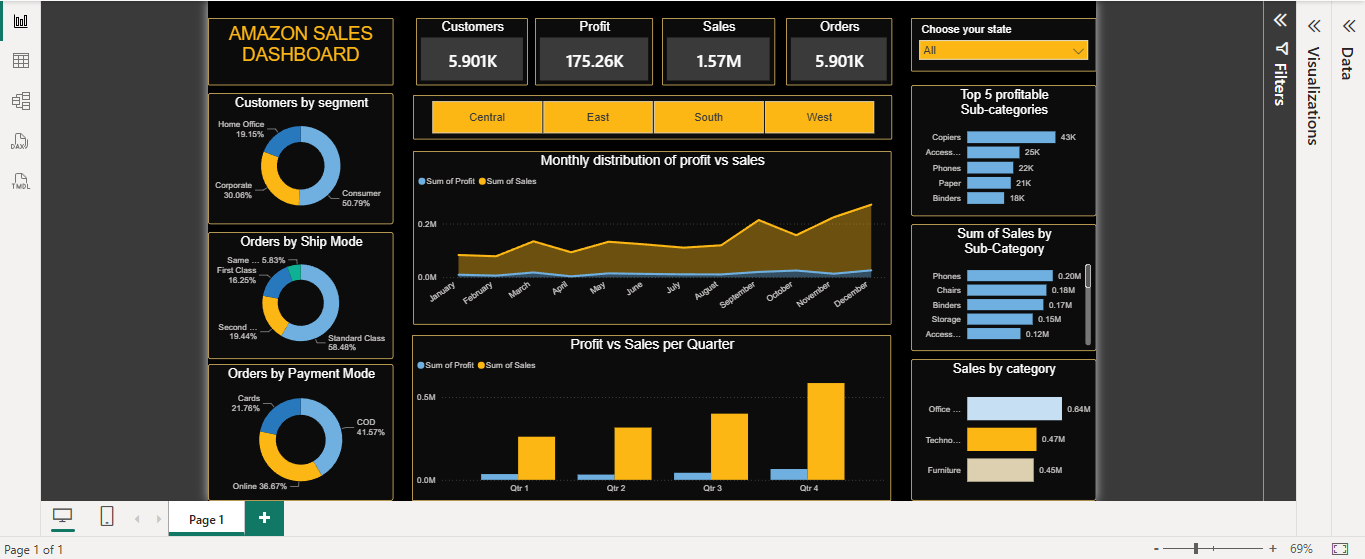

Layout of this report page (visuals, bound fields, positions):
{"tool":"powerbi","page":{"name":"Page 1","canvas":[1280,720],"ordinal":0},"visuals":[{"type":"barChart","title":"Sales by category","fields":{"Category":["Sheet1.Category"],"Y":["Sum(Sheet1.Sales)"]},"box":[1012.9,515.7,267.1,204.3],"z":0},{"type":"barChart","fields":{"Category":["Sheet1.Sub-Category"],"Y":["Sum(Sheet1.Sales)"]},"box":[1012.9,321.4,267.1,182.9],"z":1000},{"type":"barChart","title":"Top 5 profitable Sub-categories","fields":{"Category":["Sheet1.Sub-Category"],"Y":["Sum(Sheet1.Profit)"]},"box":[1012.9,121.4,267.1,188.6],"z":2000},{"type":"donutChart","title":"Orders by Payment Mode","fields":{"Category":["Sheet1.Payment Mode"],"Y":["CountNonNull(Sheet1.Order ID)"]},"box":[0,522.9,267.1,197.1],"z":3000},{"type":"donutChart","title":"Orders by Ship Mode","fields":{"Category":["Sheet1.Ship Mode"],"Y":["CountNonNull(Sheet1.Order ID)"]},"box":[0,332.9,267.1,182.9],"z":4000},{"type":"donutChart","title":"Customers by segment","fields":{"Category":["Sheet1.Segment"],"Y":["CountNonNull(Sheet1.Customer ID)"]},"box":[0,132.9,267.1,188.6],"z":5000},{"type":"textbox","box":[0,24.3,267.1,97.1],"z":6000},{"type":"stackedAreaChart","title":"Monthly distribution of profit vs sales","fields":{"Category":["Sheet1.Order Date.Variation.Date Hierarchy.Month"],"Y":["Sum(Sheet1.Profit)","Sum(Sheet1.Sales)"]},"box":[295.7,215.7,688.6,250],"z":7000},{"type":"clusteredColumnChart","title":"Profit vs Sales per Quarter","fields":{"Category":["Sheet1.Order Date.Variation.Date Hierarchy.Quarter"],"Y":["Sum(Sheet1.Profit)","Sum(Sheet1.Sales)"]},"box":[294.3,481.4,690,238.6],"z":8000},{"type":"slicer","fields":{"Values":["Sheet1.Region"]},"box":[295.7,135.7,690,64.3],"z":9000},{"type":"slicer","fields":{"Values":["Sheet1.State"]},"box":[1012.9,24.3,267.1,77.1],"z":10000},{"type":"cardVisual","title":"Orders","fields":{"Data":["CountNonNull(Sheet1.Order ID)"]},"box":[832.9,24.3,152.9,97.1],"z":11000},{"type":"cardVisual","title":"Sales","fields":{"Data":["Sum(Sheet1.Sales)"]},"box":[654.3,24.3,162.9,97.1],"z":12000},{"type":"cardVisual","title":"Profit","fields":{"Data":["Sum(Sheet1.Profit)"]},"box":[471.4,24.3,170,97.1],"z":13000},{"type":"cardVisual","title":"Customers","fields":{"Data":["CountNonNull(Sheet1.Customer ID)"]},"box":[300,24.3,161.4,97.1],"z":14000}]}

Visuals, with their boxes on the page's 1280x720 design canvas (x1, y1, x2, y2). These are canvas units, not pixel positions in the 1365x559 screenshot, which may show the page scaled, cropped or inside an application window:
"Sales by category" barChart: crop(1013, 516, 1280, 720)
barChart - Sheet1.Sub-Category x Sum(Sheet1.Sales): crop(1013, 321, 1280, 504)
"Top 5 profitable Sub-categories" barChart: crop(1013, 121, 1280, 310)
"Orders by Payment Mode" donutChart: crop(0, 523, 267, 720)
"Orders by Ship Mode" donutChart: crop(0, 333, 267, 516)
"Customers by segment" donutChart: crop(0, 133, 267, 322)
textbox: crop(0, 24, 267, 121)
"Monthly distribution of profit vs sales" stackedAreaChart: crop(296, 216, 984, 466)
"Profit vs Sales per Quarter" clusteredColumnChart: crop(294, 481, 984, 720)
slicer - Sheet1.Region: crop(296, 136, 986, 200)
slicer - Sheet1.State: crop(1013, 24, 1280, 101)
"Orders" cardVisual: crop(833, 24, 986, 121)
"Sales" cardVisual: crop(654, 24, 817, 121)
"Profit" cardVisual: crop(471, 24, 641, 121)
"Customers" cardVisual: crop(300, 24, 461, 121)
